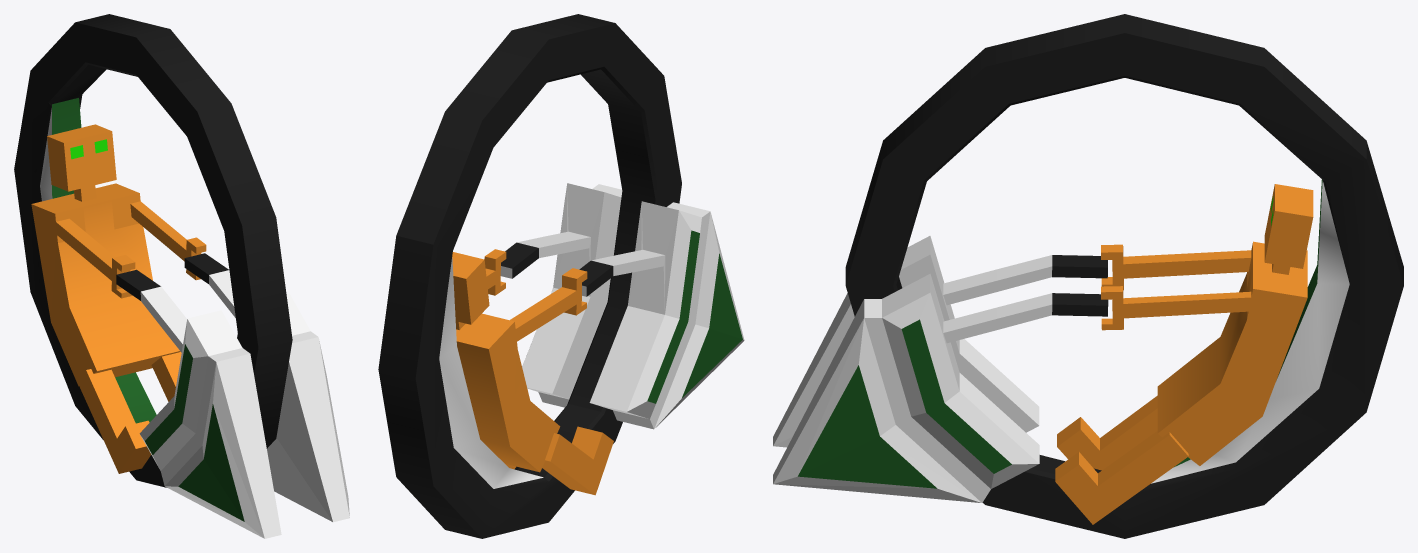
Rendered from jack_002.FBX.
3 views of the same model, side by side, from view 1: azimuth 30°, elevation 25°; view 2: azimuth 150°, elevation 25°; view 3: azimuth 270°, elevation 25° (orthographic). The views are drawn at different scales.
Parts seen in each view (by area): view 1: Cylinder001, SegBody, SegRLeg_L, SegRLeg_R; view 2: Cylinder001, SegBody, SegRLeg_L; view 3: Cylinder001, SegBody, SegRLeg_R, SegRLeg_L.
Part boxes in pixels (box(x1,y1,x2,y2)): Cylinder001: box(14, 14, 349, 538); SegBody: box(31, 124, 206, 386); SegRLeg_L: box(77, 369, 151, 473); SegRLeg_R: box(151, 351, 181, 401); Cylinder001: box(378, 14, 744, 538); SegBody: box(452, 249, 587, 472); SegRLeg_L: box(542, 426, 613, 495); Cylinder001: box(773, 14, 1403, 538); SegBody: box(1101, 184, 1313, 465); SegRLeg_R: box(1055, 431, 1188, 524); SegRLeg_L: box(1057, 395, 1157, 470).
Bounding box in the file's own units: 10.79 × 39.37 × 44.5.
